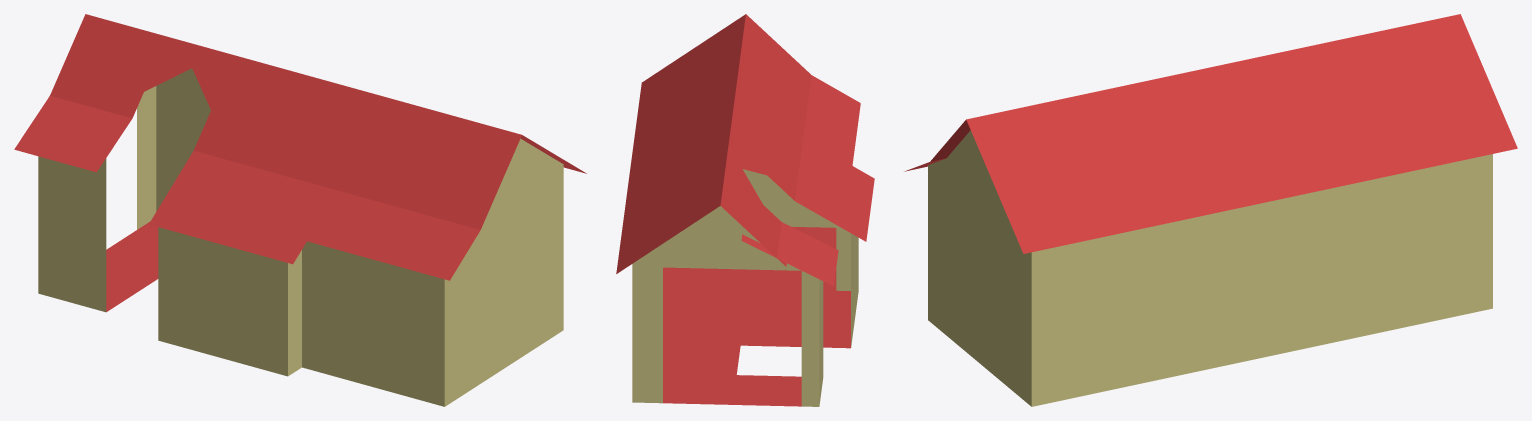
The picture shows the model from 3 angles, left to right: view 1: azimuth 30°, elevation 25°; view 2: azimuth 150°, elevation 25°; view 3: azimuth 270°, elevation 25°; orthographic projection. The views are drawn at different scales.
Size of the model in its own units: 26.18 by 33.08 by 14.85.
